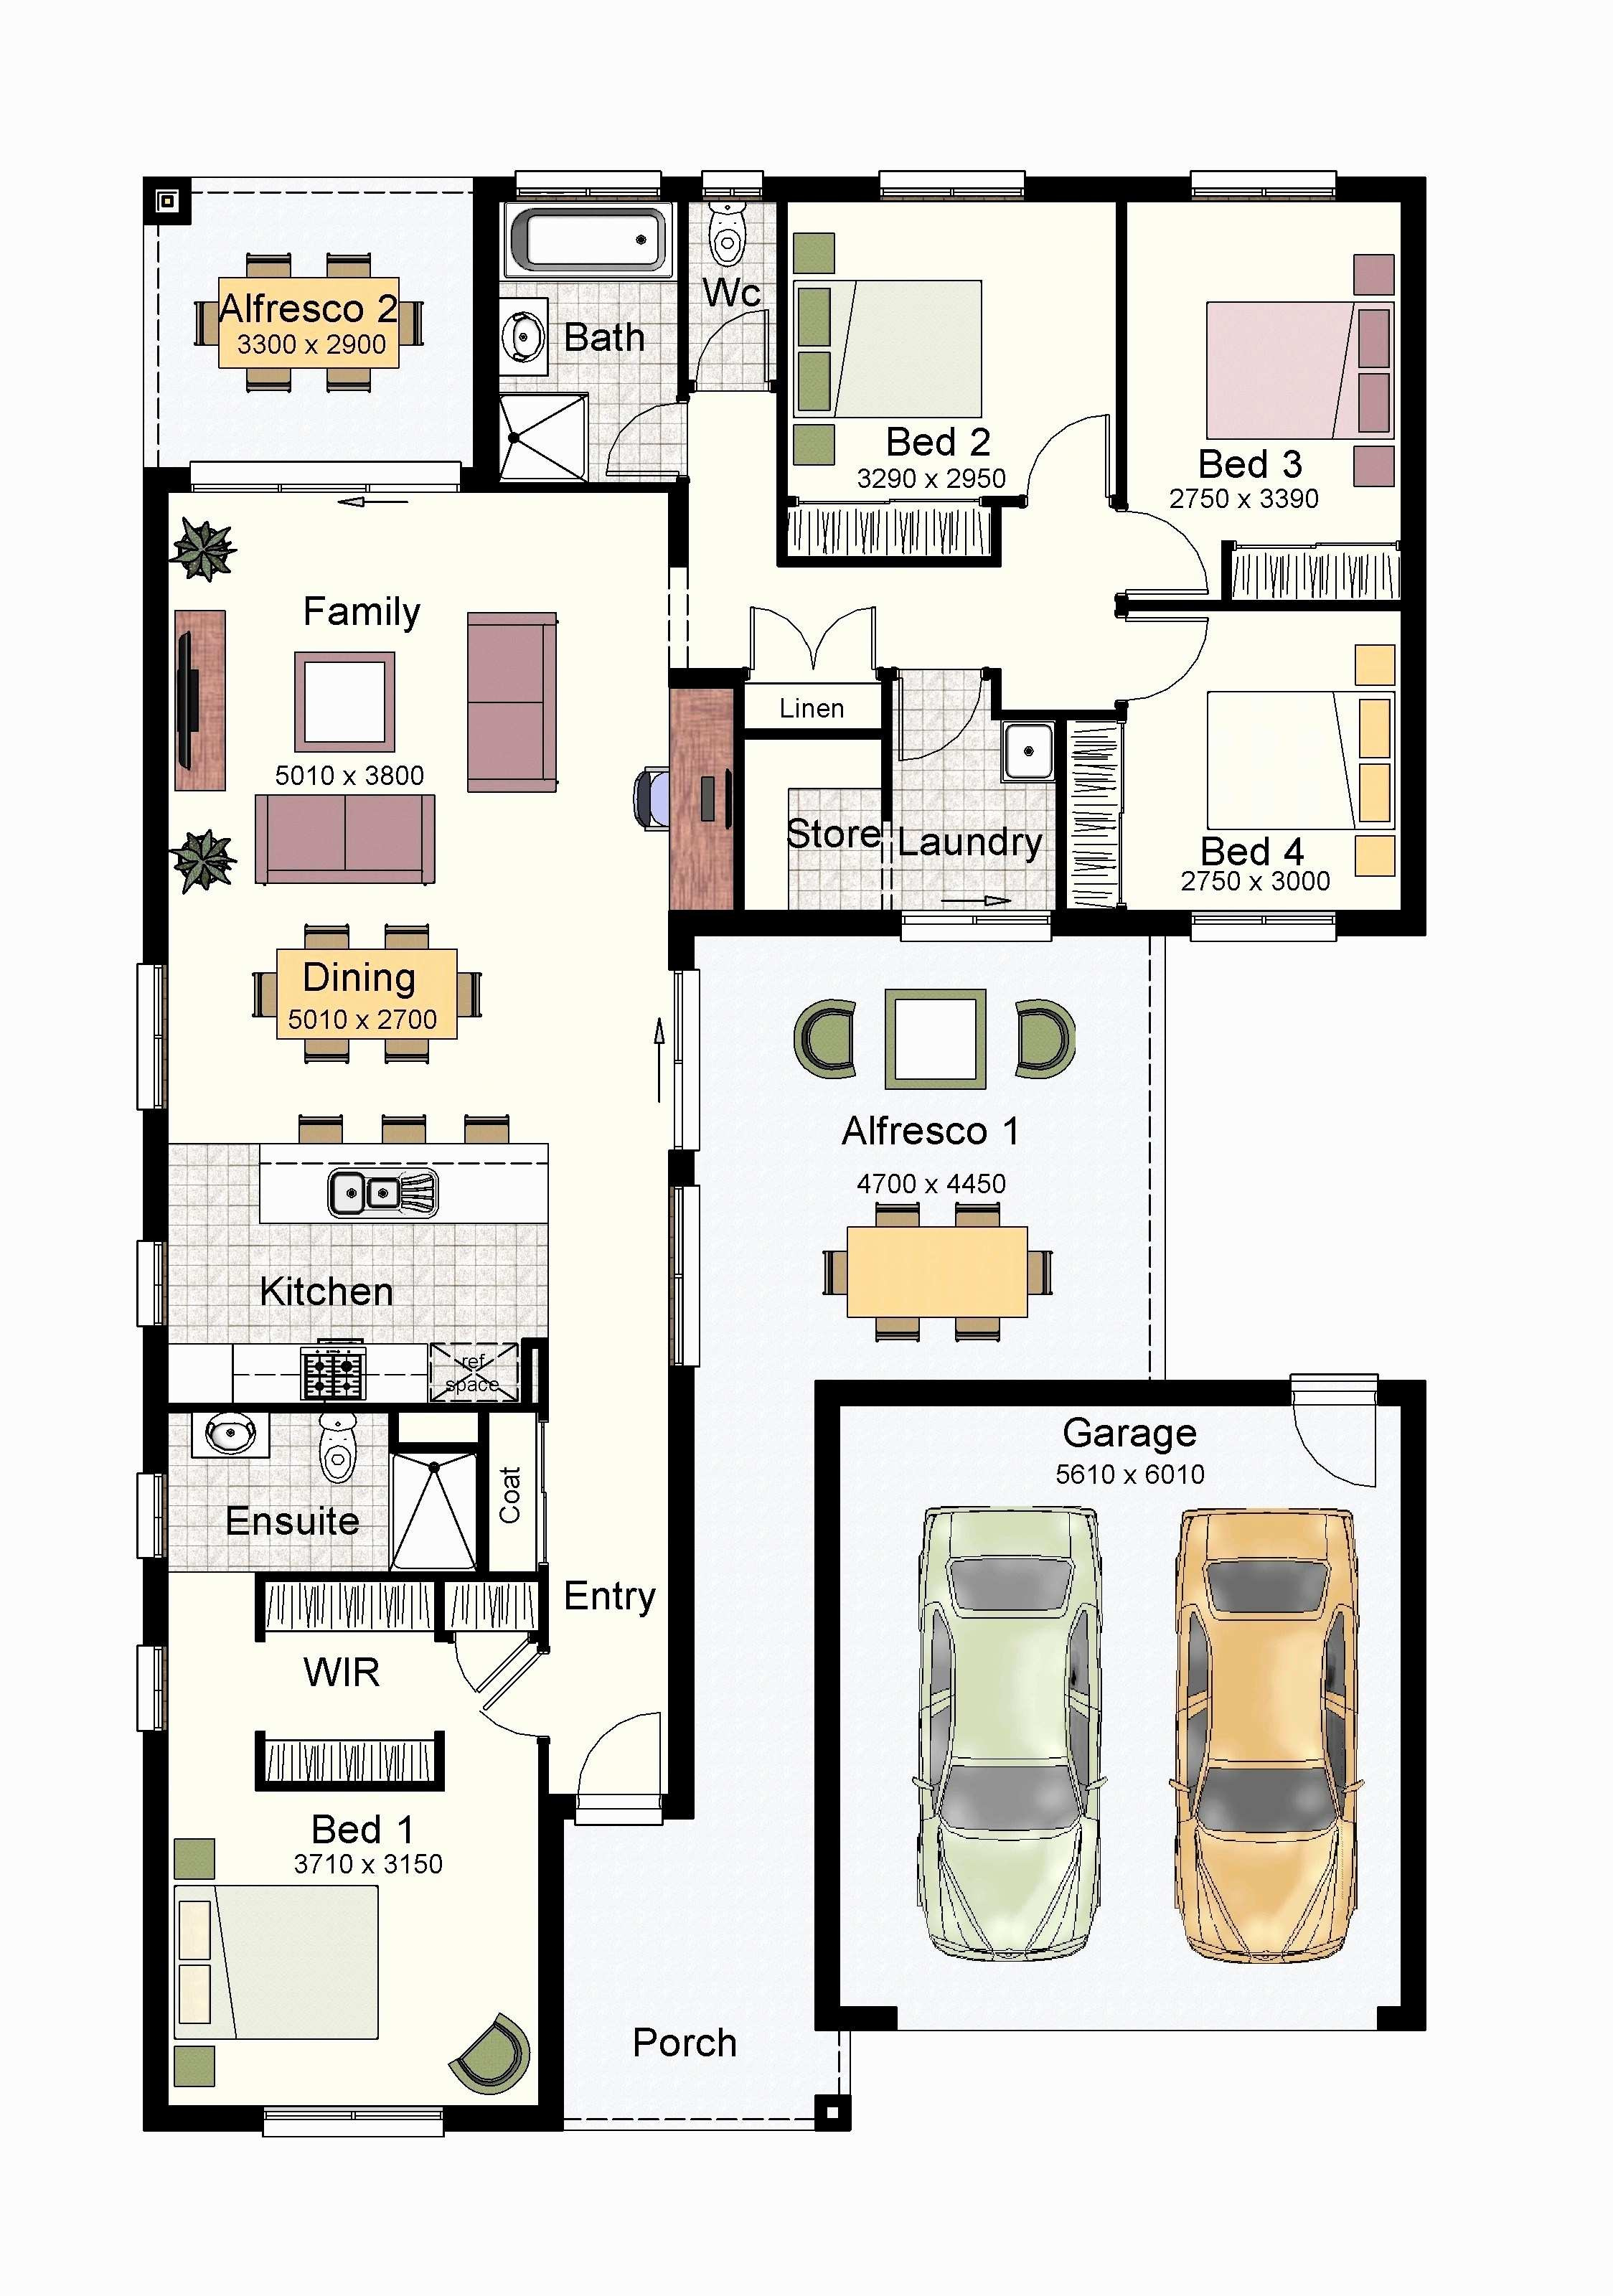window: (187, 455, 463, 497), (258, 2101, 445, 2142), (665, 967, 704, 1155), (663, 1181, 702, 1370), (131, 956, 175, 1117), (897, 905, 1054, 947), (1184, 907, 1341, 947), (1185, 167, 1339, 204), (876, 169, 1028, 202), (513, 169, 663, 201), (133, 1237, 173, 1329), (133, 1642, 173, 1734), (134, 1467, 173, 1560)
